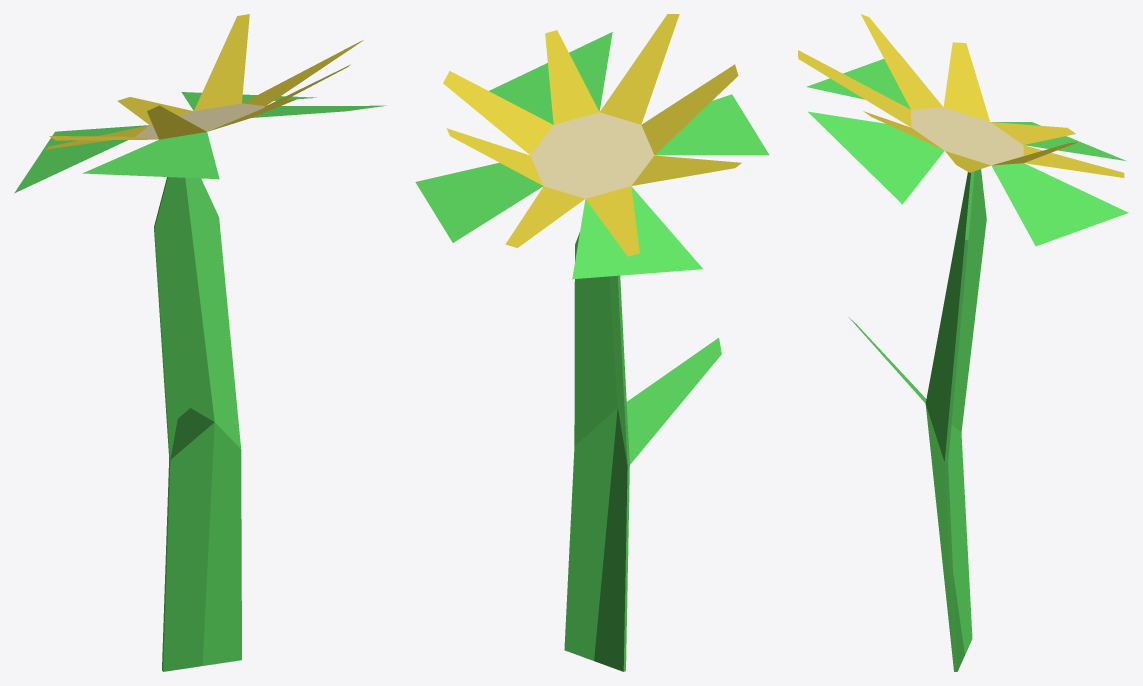
File: Flower1.fbx
The picture shows the model from 3 angles, left to right: view 1: azimuth 30°, elevation 25°; view 2: azimuth 150°, elevation 25°; view 3: azimuth 270°, elevation 25°; orthographic projection. The views are drawn at different scales.
Parts seen in each view (by area): view 1: Plane.040, Circle.002; view 2: Circle.002, Plane.040; view 3: Circle.002, Plane.040.
Boxes of the visible parts, x1,y1,x2,y2 form: Plane.040: [154, 177, 241, 671]; Circle.002: [14, 14, 386, 193]; Circle.002: [415, 14, 769, 279]; Plane.040: [564, 232, 721, 671]; Circle.002: [798, 14, 1128, 246]; Plane.040: [848, 169, 986, 671].
Size of the model in its own units: 67.33 by 130 by 64.37.
